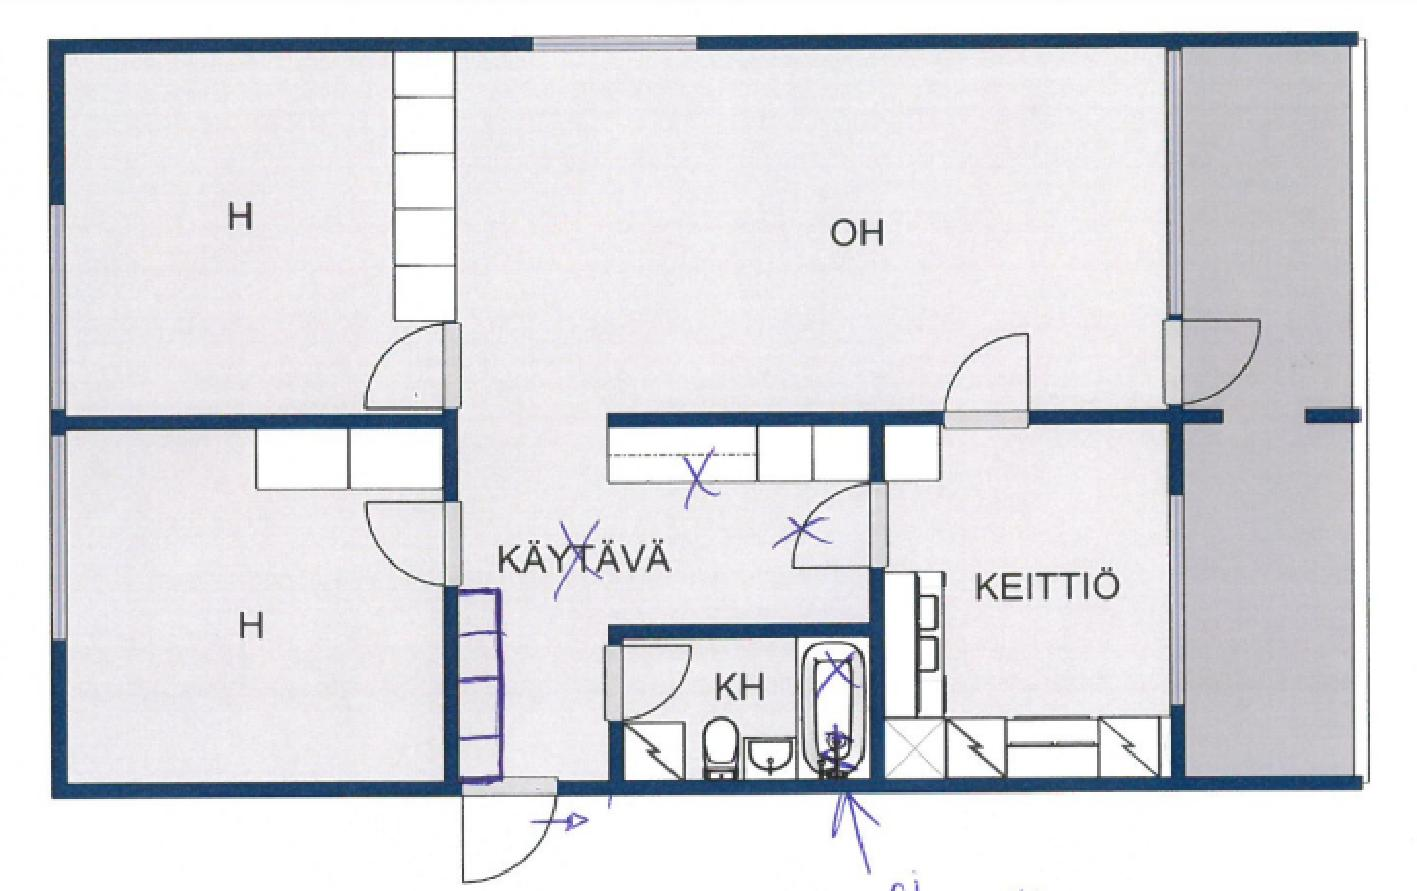door: (445, 774, 570, 891), (941, 320, 1041, 437), (790, 471, 893, 581), (1156, 315, 1270, 406), (364, 492, 469, 589), (358, 327, 466, 413), (595, 635, 694, 723)
window: (1162, 46, 1184, 314), (47, 207, 67, 419), (51, 434, 69, 640), (533, 34, 695, 53)
zone: (460, 47, 1177, 779), (64, 52, 452, 414), (1172, 43, 1354, 775), (72, 424, 442, 780), (876, 423, 1169, 774)
